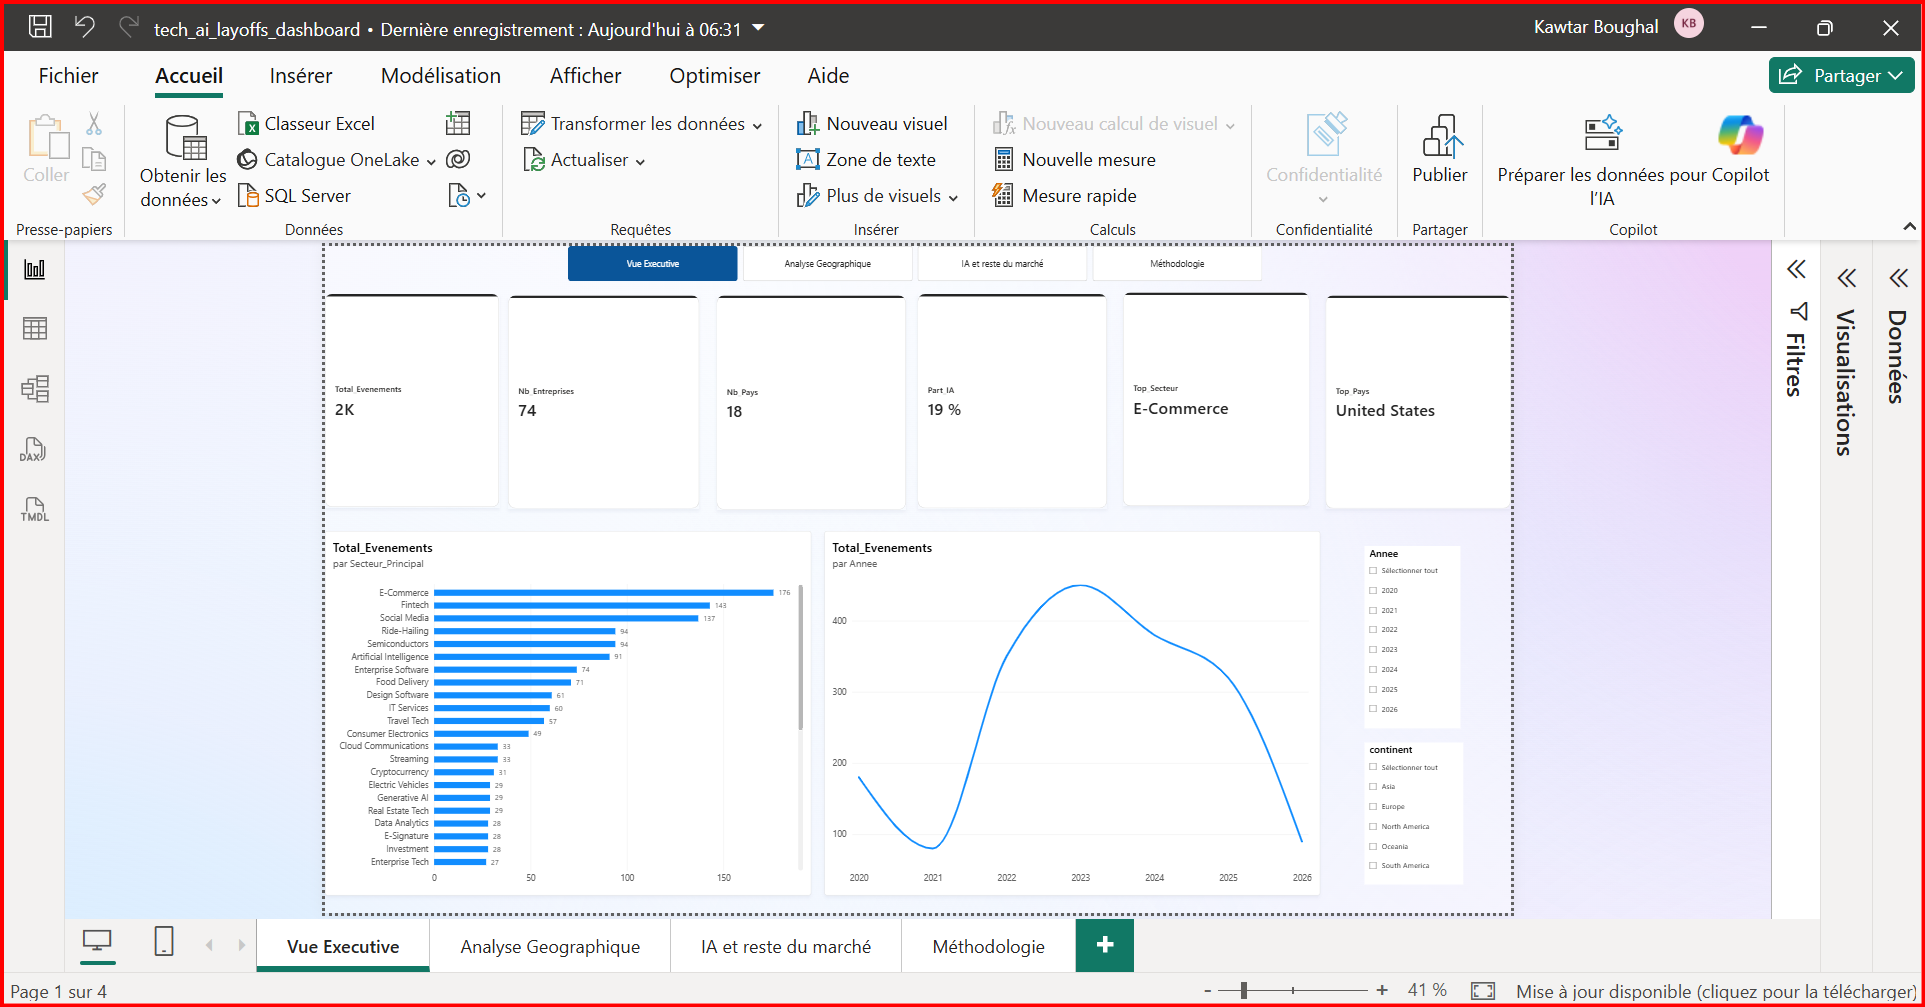

Layout of this report page (visuals, bound fields, positions):
{"tool":"powerbi","page":{"name":"Vue Executive","canvas":[1920,1080],"ordinal":0},"visuals":[{"type":"cardVisual","fields":{"Data":["Faits_Licenciements.Total_Evenements"]},"box":[0,78,282.9,345.7],"z":0},{"type":"cardVisual","fields":{"Data":["Dim_Date.Nb_Entreprises"]},"box":[296,80,310,345.7],"z":1000},{"type":"cardVisual","fields":{"Data":["Dim_Date.Nb_Pays"]},"box":[634,80,307.1,347.1],"z":2000},{"type":"cardVisual","fields":{"Data":["Dim_Date.Part_IA"]},"box":[960,78,307.1,347.1],"z":3000},{"type":"cardVisual","fields":{"Data":["Dim_Date.Top_Secteur"]},"box":[1292,76,302,346],"z":4000},{"type":"cardVisual","fields":{"Data":["Dim_Date.Top_Pays"]},"box":[1620,80,300,345],"z":5000},{"type":"barChart","fields":{"Category":["Dim_Secteur.Secteur_Principal"],"Y":["Faits_Licenciements.Total_Evenements"]},"box":[0,462.5,787.5,590],"z":6000},{"type":"lineChart","fields":{"Category":["Dim_Date.Annee"],"Y":["Faits_Licenciements.Total_Evenements"]},"box":[810,462.5,802.5,590],"z":7000},{"type":"slicer","fields":{"Values":["Dim_Date.Annee"]},"box":[1682.5,485,155,295],"z":8000},{"type":"slicer","fields":{"Values":["Dim_Pays.continent"]},"box":[1682.5,805,160,230],"z":9000},{"type":"pageNavigator","box":[392.5,0,1125,57.5],"z":10000}]}

Visuals, with their boxes on the page's 1920x1080 design canvas (x1, y1, x2, y2). These are canvas units, not pixel positions in the 1925x1007 screenshot, which may show the page scaled, cropped or inside an application window:
cardVisual - Faits_Licenciements.Total_Evenements: region(0, 78, 283, 424)
cardVisual - Dim_Date.Nb_Entreprises: region(296, 80, 606, 426)
cardVisual - Dim_Date.Nb_Pays: region(634, 80, 941, 427)
cardVisual - Dim_Date.Part_IA: region(960, 78, 1267, 425)
cardVisual - Dim_Date.Top_Secteur: region(1292, 76, 1594, 422)
cardVisual - Dim_Date.Top_Pays: region(1620, 80, 1920, 425)
barChart - Dim_Secteur.Secteur_Principal x Faits_Licenciements.Total_Evenements: region(0, 462, 788, 1052)
lineChart - Dim_Date.Annee x Faits_Licenciements.Total_Evenements: region(810, 462, 1612, 1052)
slicer - Dim_Date.Annee: region(1682, 485, 1838, 780)
slicer - Dim_Pays.continent: region(1682, 805, 1842, 1035)
pageNavigator: region(392, 0, 1518, 58)
